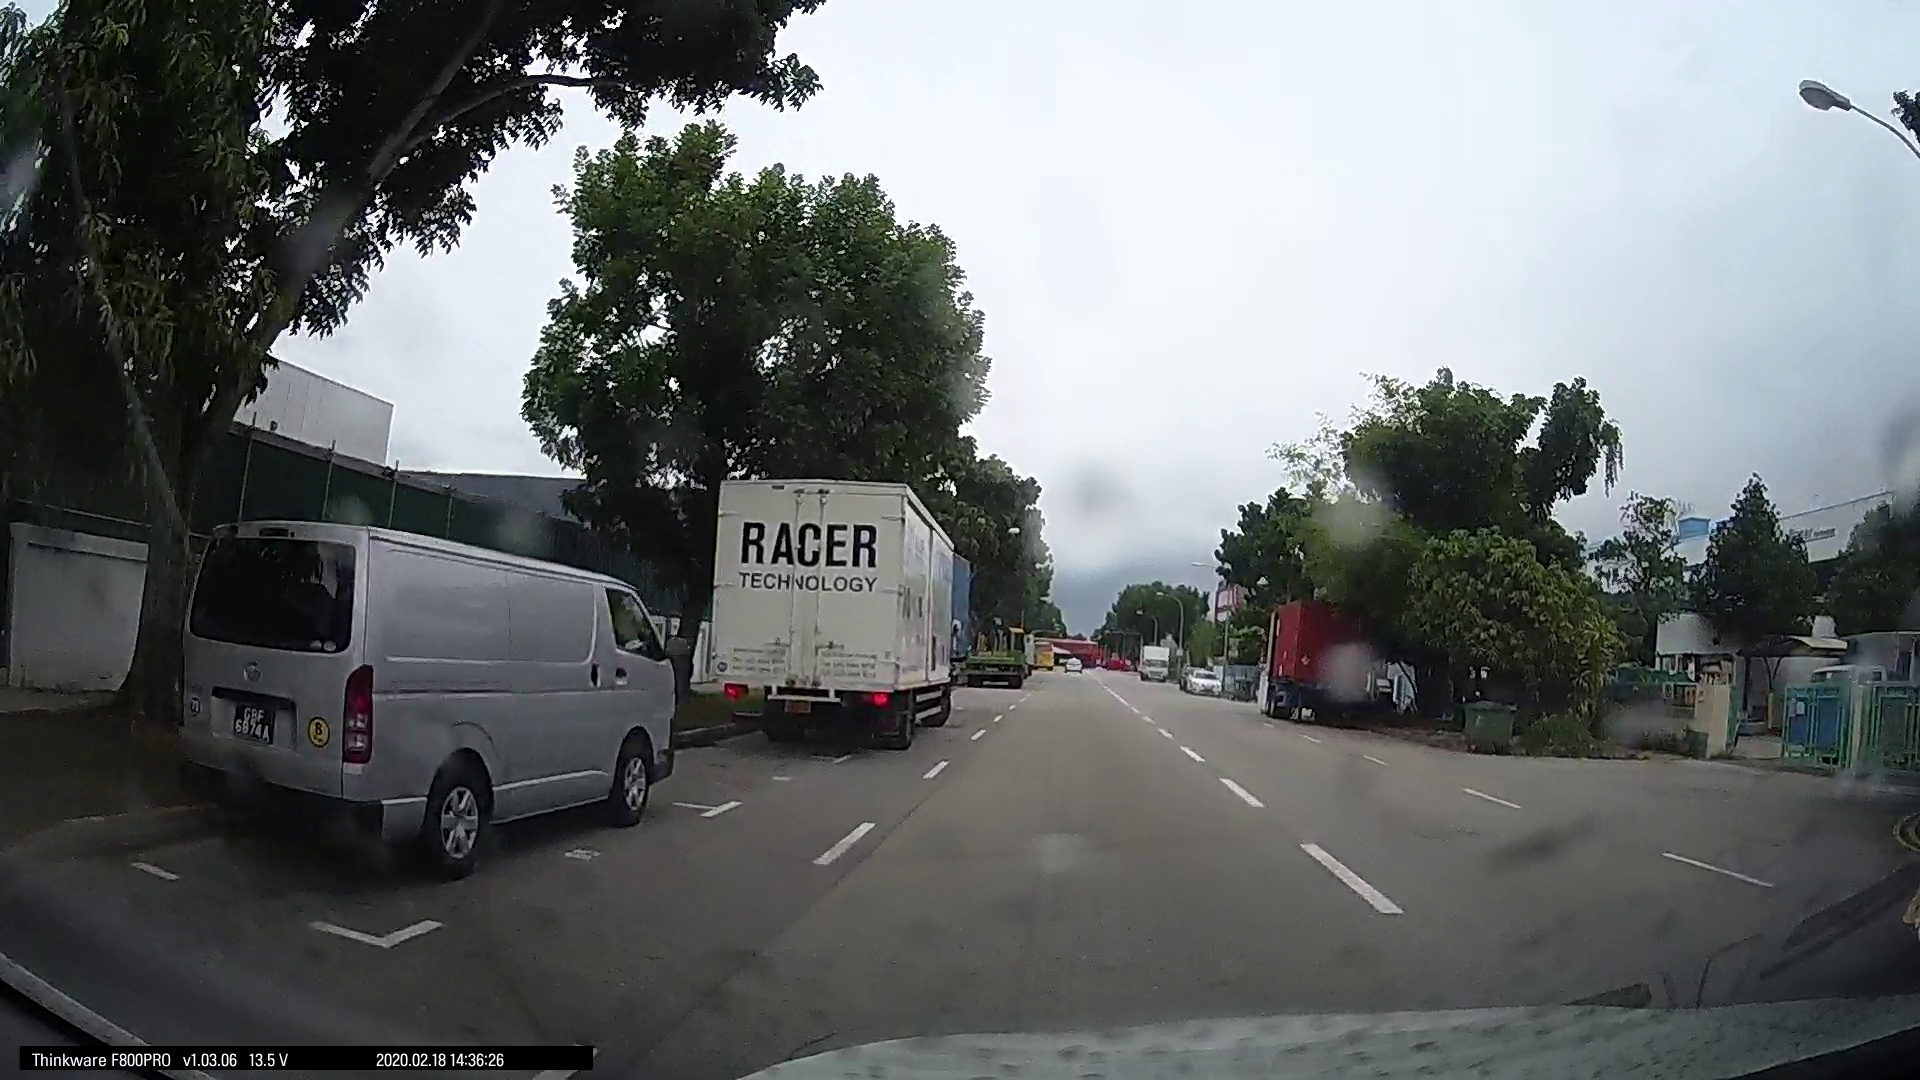Heavy Vehicle: (694, 468, 963, 752), (1253, 596, 1408, 727)
Light Vehicle: (164, 512, 684, 874)
